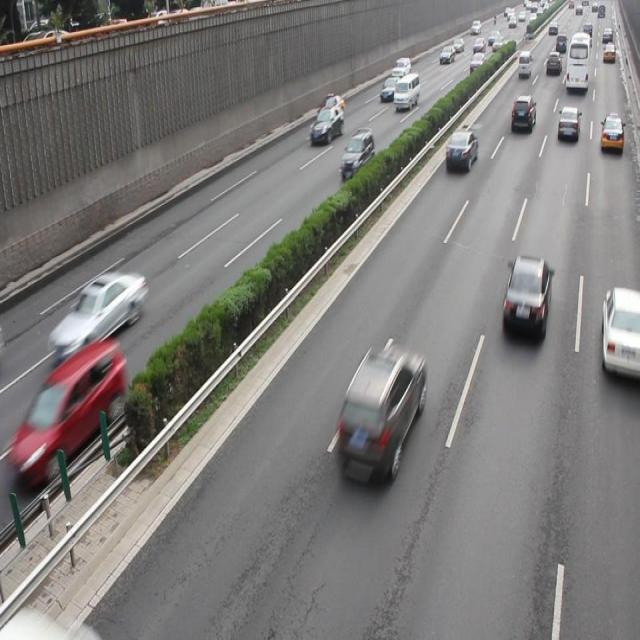car: (332, 346, 425, 485), (29, 340, 125, 474), (50, 269, 146, 360), (501, 254, 550, 342), (599, 286, 640, 378), (340, 128, 374, 180), (444, 129, 477, 173), (308, 104, 343, 142), (598, 115, 622, 154), (510, 95, 534, 134), (556, 105, 579, 140), (315, 93, 343, 120)
